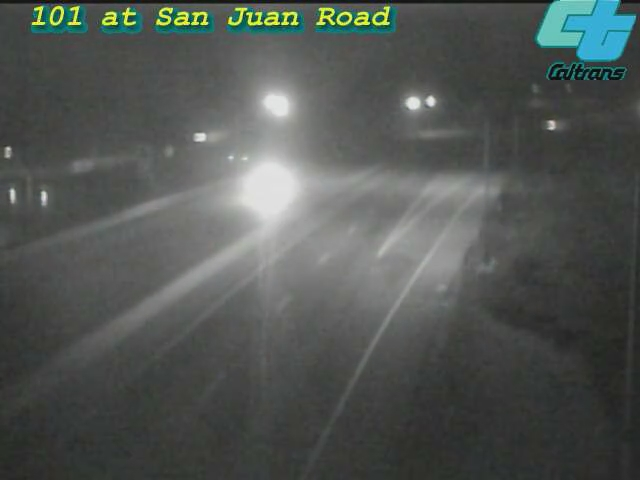vehicle: (222, 149, 302, 229)
